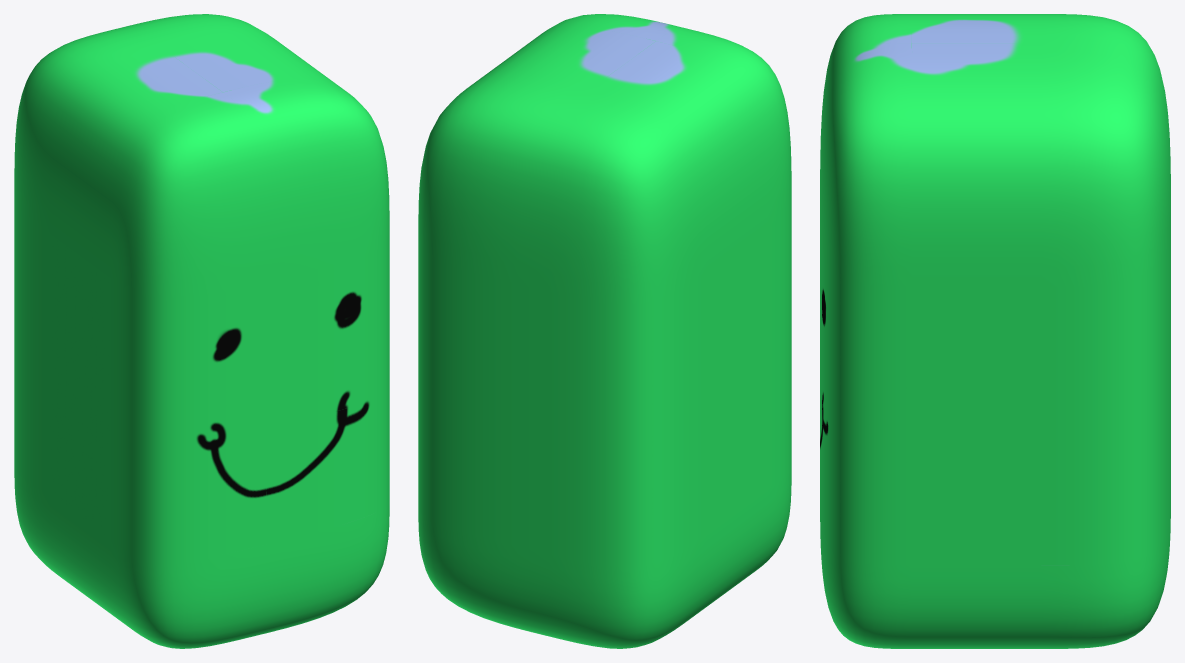
File: Big Building.obj
The picture shows the model from 3 angles, left to right: view 1: azimuth 30°, elevation 25°; view 2: azimuth 150°, elevation 25°; view 3: azimuth 270°, elevation 25°; orthographic projection. The views are drawn at different scales.
Parts seen in each view (by area): view 1: Cube; view 2: Cube; view 3: Cube.
Part boxes in pixels (x1,y1,x2,y2): Cube: (14, 14, 389, 648); Cube: (418, 14, 791, 648); Cube: (820, 14, 1170, 648).
Size of the model in its own units: 4.97 by 9.75 by 5.52.
Materials: 1 (1 with a texture image).
